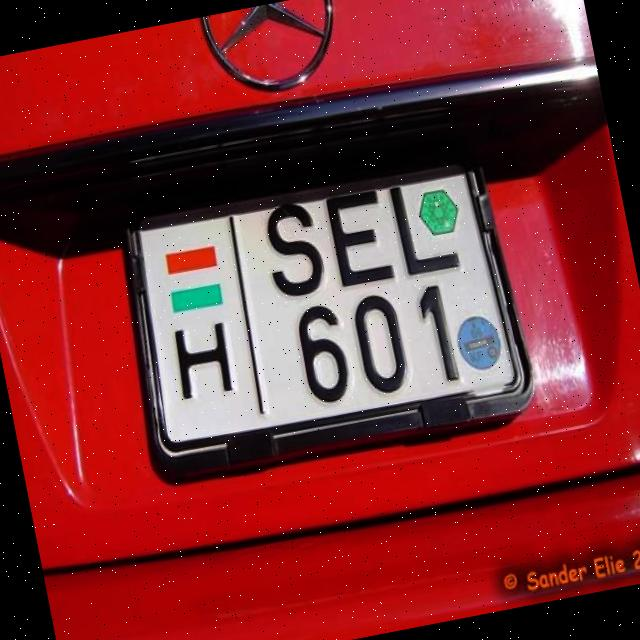licence: (118, 128, 532, 465)
